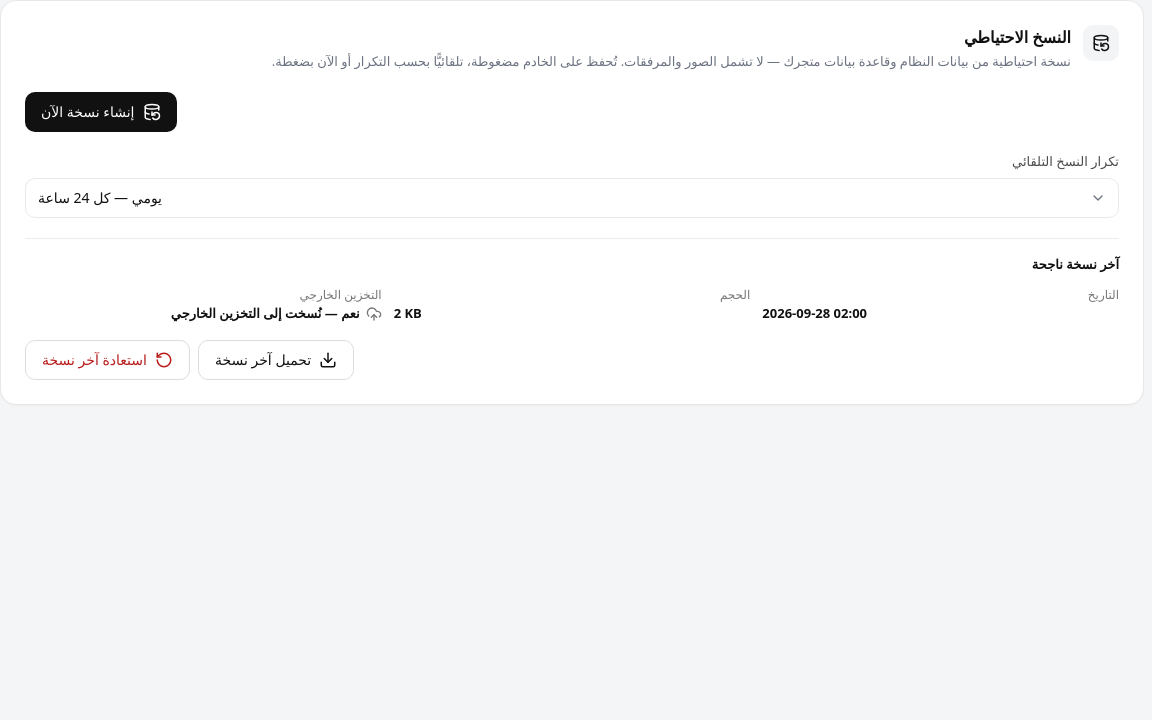
Test case: ما تقوله الشاشةُ عن النسخة › ونسخةُ الأمان «داخلية» — لا وعدَ بزرٍّ يعيد إليها
Click the button "استعادة آخر نسخة". click: {"x": 107, "y": 360}
box: [25,340,190,380]
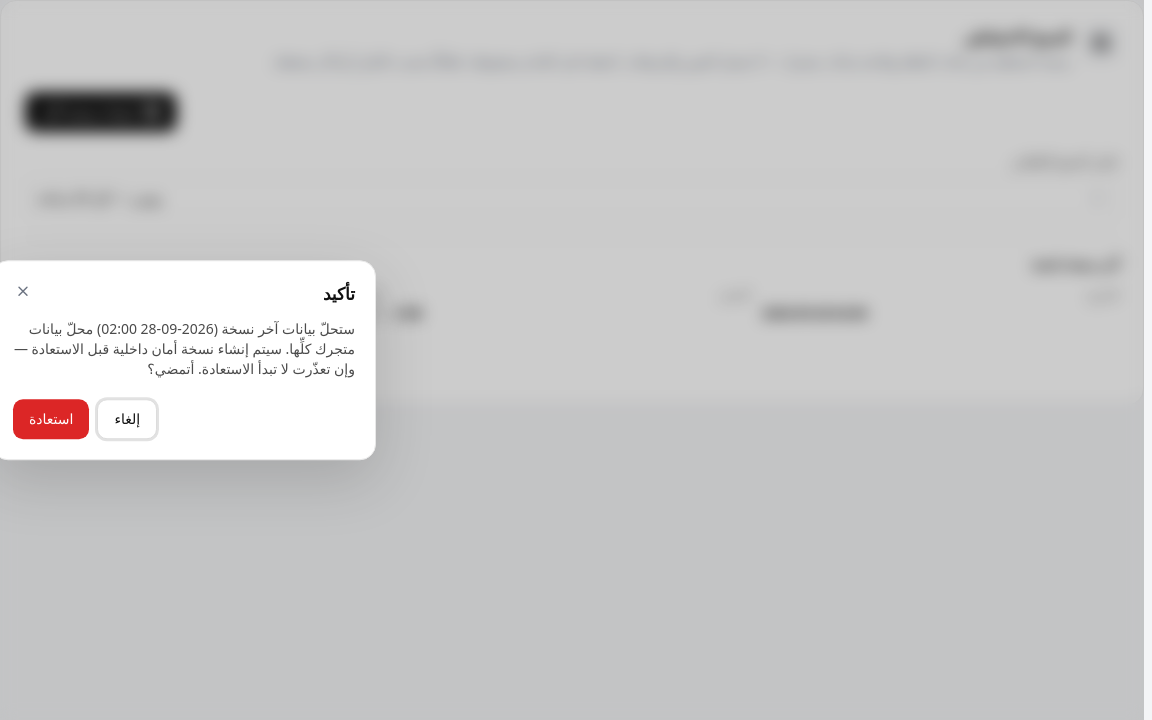
expect the text "سيتم إنشاء نسخة أمان داخلية قبل الاستعادة" is shown: met, box [14,319,355,378]
